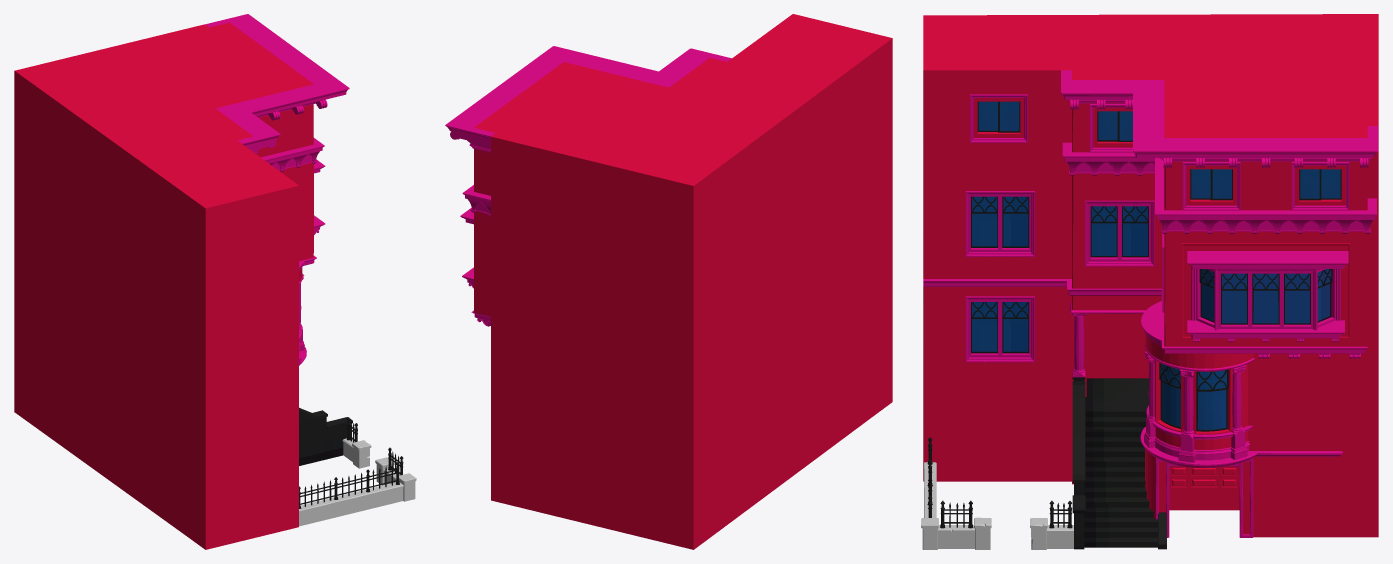
Rendered from Building_Apartment01.fbx.
The picture shows the model from 3 angles, left to right: view 1: azimuth 30°, elevation 25°; view 2: azimuth 150°, elevation 25°; view 3: azimuth 270°, elevation 25°; orthographic projection. The views are drawn at different scales.
Visible parts, largest first — view 1: SM_City_Building_Apartment_03.mo, SM_City_Building_Apartment_03_Fence.mo; view 2: SM_City_Building_Apartment_03.mo; view 3: SM_City_Building_Apartment_03.mo, SM_City_Building_Apartment_03_Fence.mo.
Part boxes in pixels (x1,y1,x2,y2): SM_City_Building_Apartment_03.mo: (14,14,352,549); SM_City_Building_Apartment_03_Fence.mo: (299,417,416,526); SM_City_Building_Apartment_03.mo: (445,14,892,549); SM_City_Building_Apartment_03.mo: (923,14,1378,549); SM_City_Building_Apartment_03_Fence.mo: (921,437,1073,549).
Bounding box in the file's own units: 951 × 1328 × 1337.
